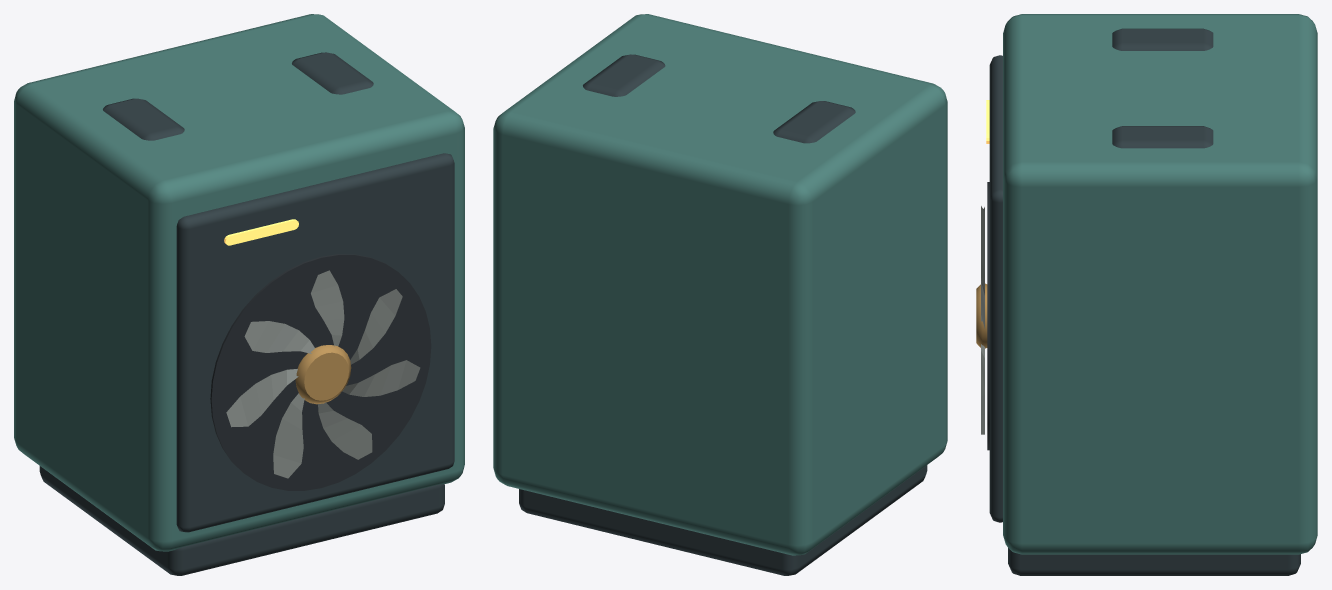
The model's file is kit_gpu_server_v1.glb.
3 views of the same model, side by side, from view 1: azimuth 30°, elevation 25°; view 2: azimuth 150°, elevation 25°; view 3: azimuth 270°, elevation 25° (orthographic). The views are drawn at different scales.
Parts seen in each view (by area): view 1: body, fan, status_led; view 2: body; view 3: body, fan.
Part boxes in pixels (bbox=[...]): body: bbox=[14, 14, 464, 575]; fan: bbox=[226, 270, 420, 478]; status_led: bbox=[224, 219, 298, 245]; body: bbox=[493, 14, 947, 575]; body: bbox=[987, 14, 1317, 575]; fan: bbox=[976, 206, 987, 434].
Size of the model in its own units: 0.9 by 1.1 by 0.8.
